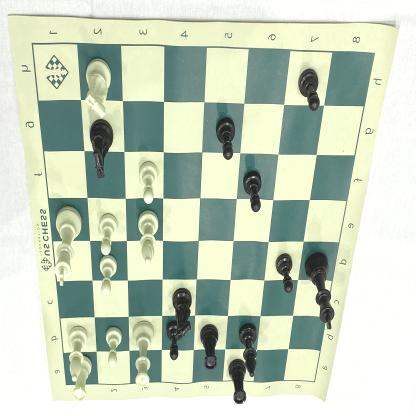black-bishop: (238, 320, 262, 380)
black-king: (302, 248, 336, 336)
black-knight: (86, 118, 119, 181), (170, 284, 197, 340)
black-pawn: (212, 114, 238, 167), (296, 64, 322, 115), (242, 168, 264, 218), (275, 251, 295, 297), (164, 321, 184, 364)
black-rook: (197, 321, 222, 374), (226, 356, 249, 410)
white-bishop: (62, 323, 92, 382), (134, 208, 162, 271)
white-king: (52, 204, 85, 289)
white-knight: (82, 54, 114, 122)
white-pawn: (135, 153, 161, 206), (94, 210, 122, 258), (103, 325, 125, 372), (96, 254, 120, 297)
white-queen: (129, 316, 158, 392)
white-rook: (68, 348, 96, 404)
